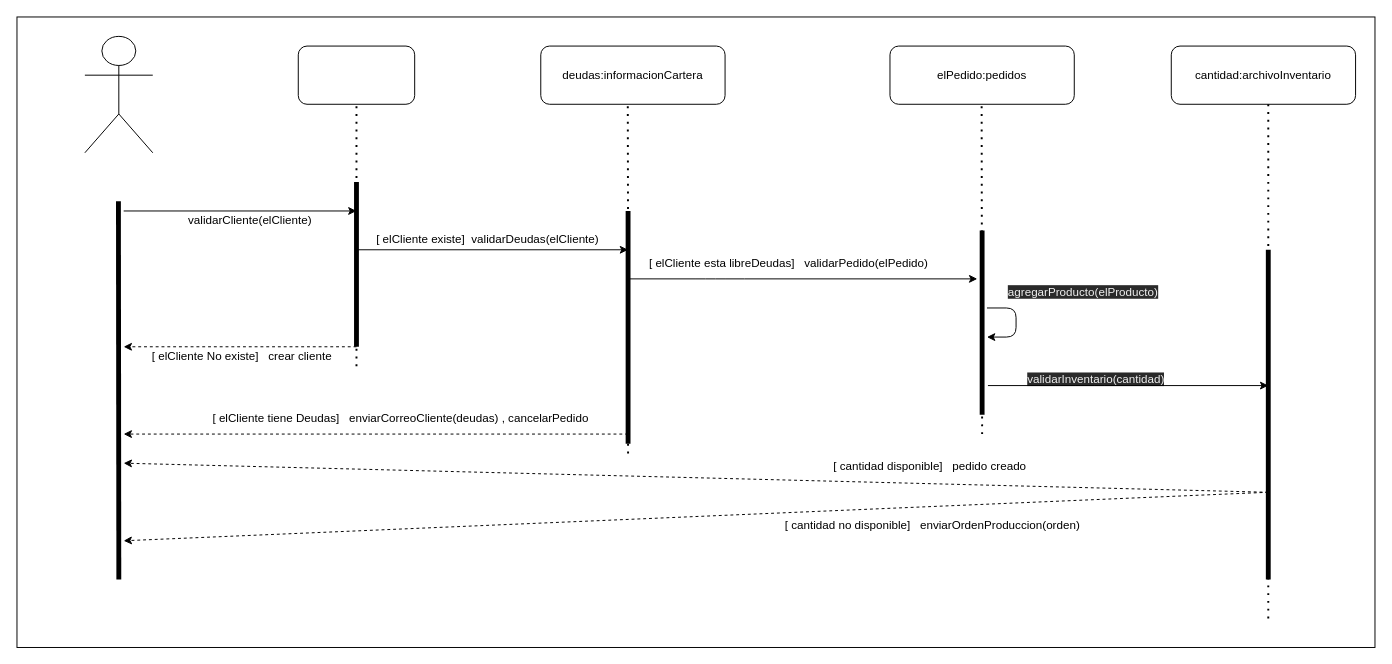
This 1392x664 diagram has some shape labels left out. The centre of each missing label's shape, as x and y in pixels:
"Ana: registrarPedido" goes at (118,94).
"elCliente:Clientes" goes at (356,74).
